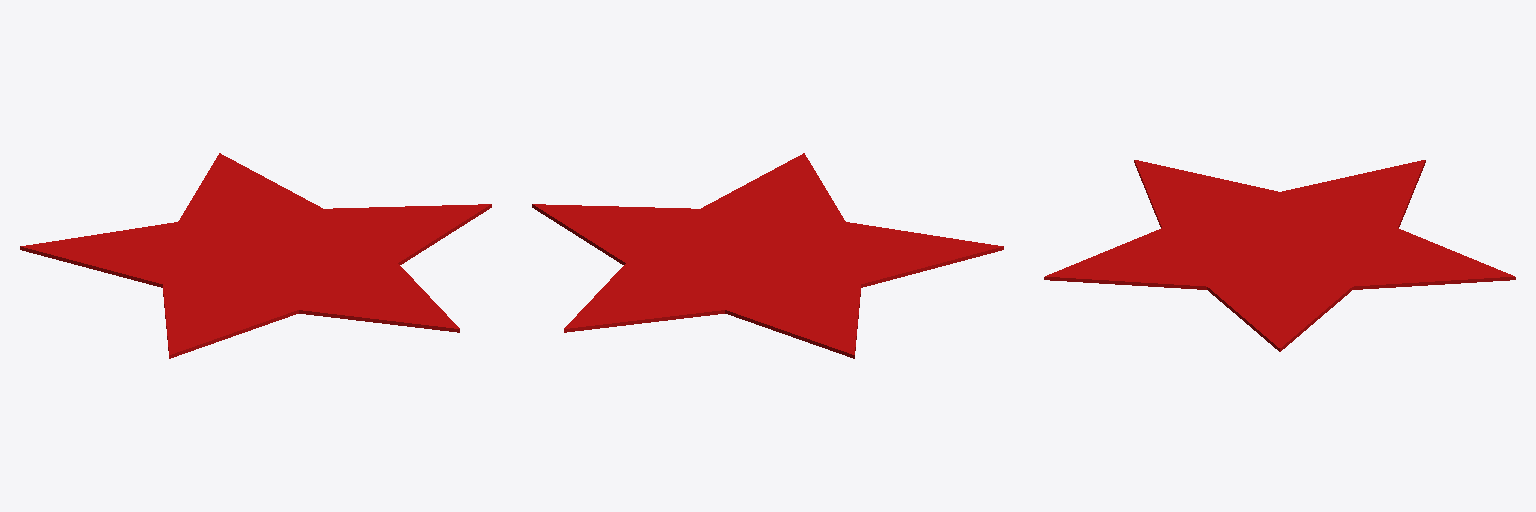
robot.urdf — checkers_piece:
<?xml version="1.0"?>
<robot name="checkers_piece">
    <link name="base_link">
        <visual>
            <origin xyz="0 0 0" rpy="1.5708 0 0"/>
            <geometry>
                <mesh filename="star_chess.obj" scale="0.025 0.002 0.025"/>
            </geometry>
            <material name="red">
                <color rgba="0.8 0.1 0.1 1"/>
            </material>
        </visual>
        
        <collision>
            <origin xyz="0 0 0" rpy="0 0 0"/>
            <geometry>
                <cylinder radius="0.025" length="0.002"/>
            </geometry>
        </collision>

        <inertial>
            <mass value="1.0"/>
            <origin xyz="0 0 0"/>
            <inertia ixx="1.0" ixy="0.0" ixz="0.0" 
                     iyy="1.0" iyz="0.0" izz="1.0"/>
        </inertial>
    </link>
</robot>

--- What the picture shows (computed from the rendered views, not written in the file) ---
Views: 3 orthographic renders of the robot side by side, from view 1: azimuth 30°, elevation 25°; view 2: azimuth 150°, elevation 25°; view 3: azimuth 270°, elevation 25°.
Model checkers_piece with 1 links and 0 joints (none), rooted at base_link, posed all joints at 0.
Visible links, largest first — view 1: base_link; view 2: base_link; view 3: base_link.
Boxes of the visible links, x1=… form: base_link: x1=20, y1=153, x2=491, y2=358; base_link: x1=532, y1=153, x2=1003, y2=358; base_link: x1=1044, y1=160, x2=1515, y2=351.
Size in the robot's own frame: 0.0452 by 0.0476 by 0.0004 metres.
Meshes: 1 distinct files referenced, 1 mesh visuals loaded (1 OBJ).
